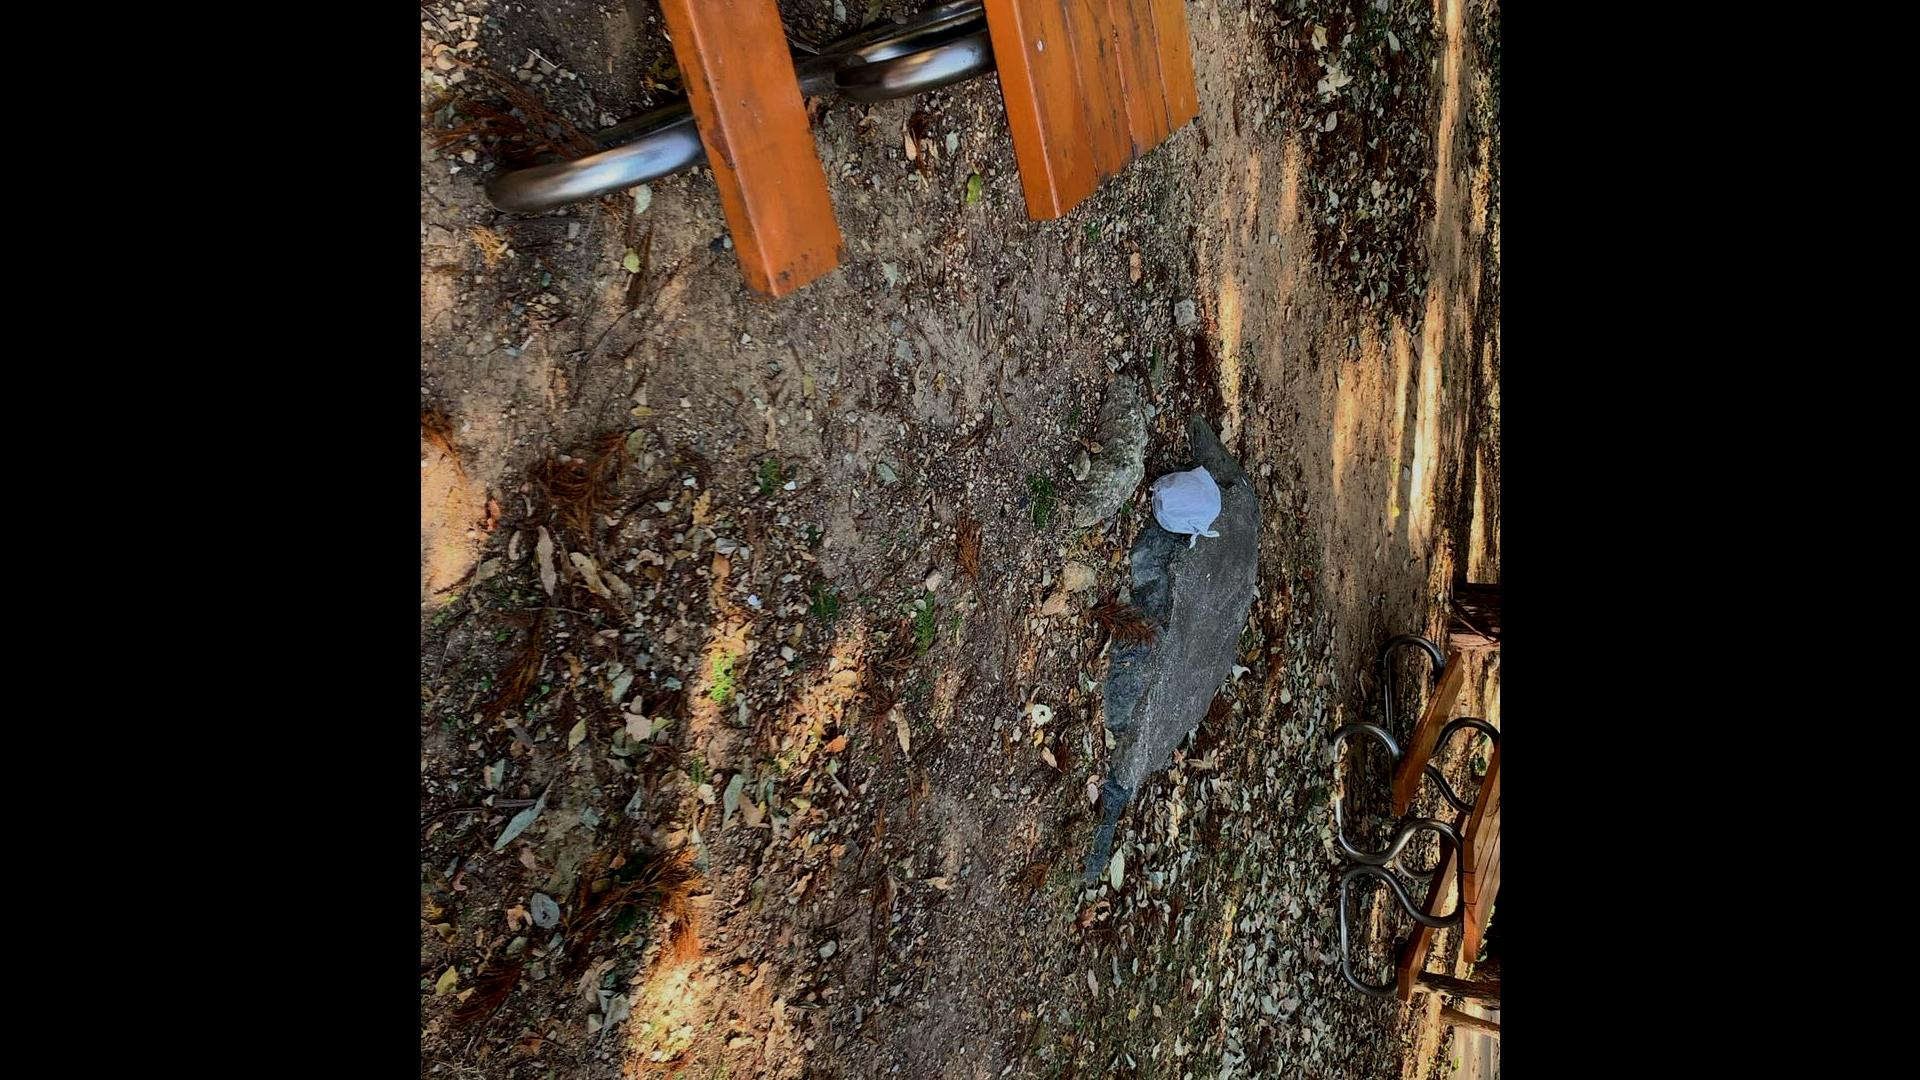white_bag: (1142, 459, 1232, 559)
